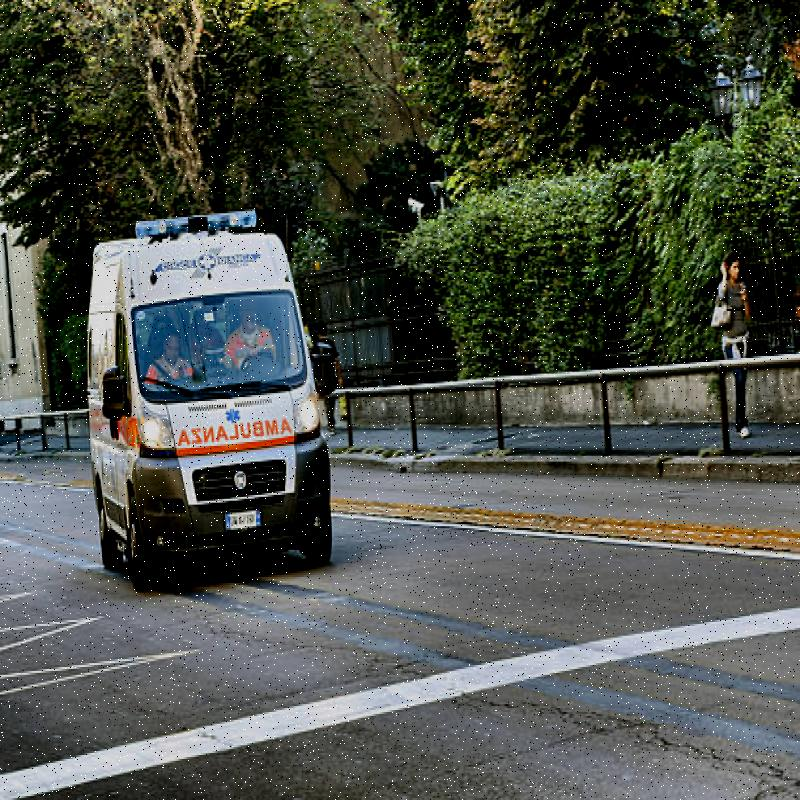ambulance: (74, 174, 350, 578)
